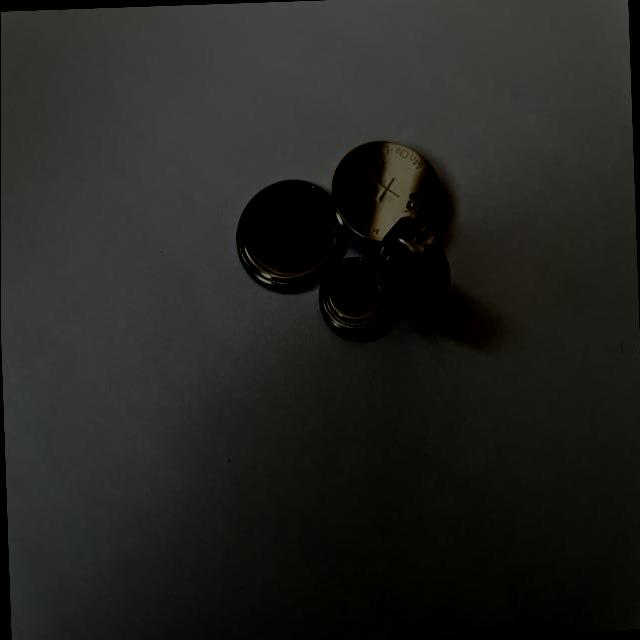COIN: (330, 134, 448, 256), (234, 176, 348, 296), (378, 213, 456, 320), (318, 254, 397, 345)
